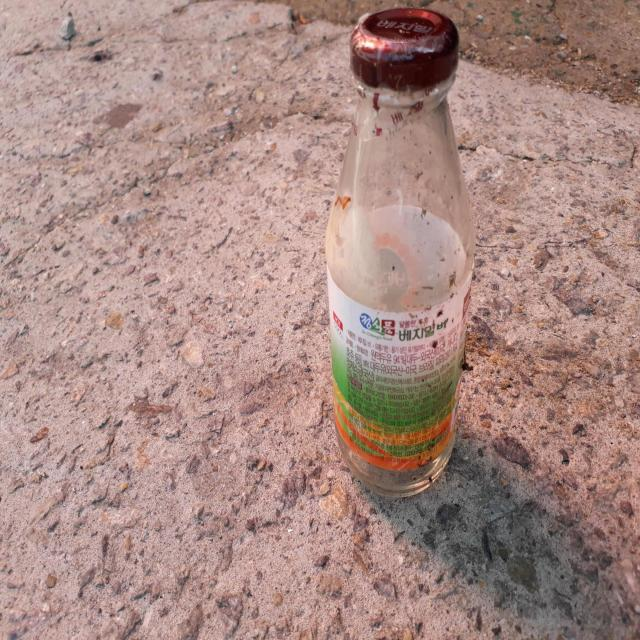glass: (326, 8, 476, 497)
